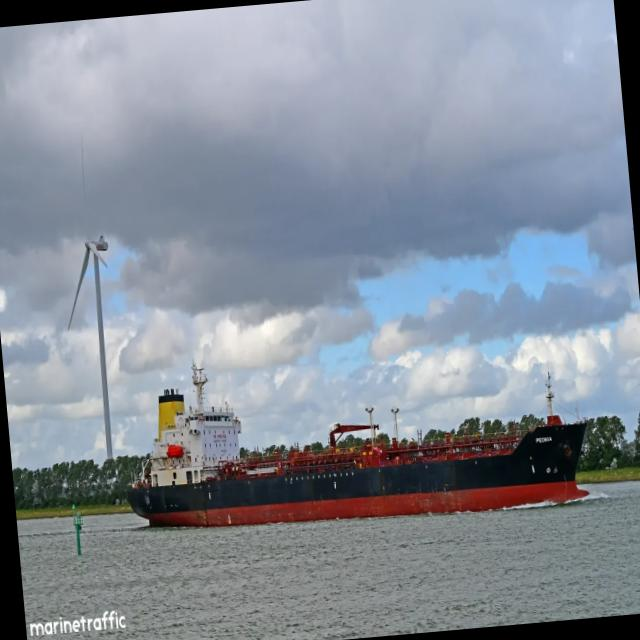Tanker: (127, 363, 586, 525)
